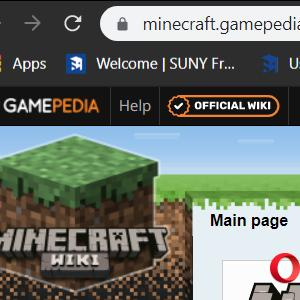opera: (270, 253, 300, 282)
